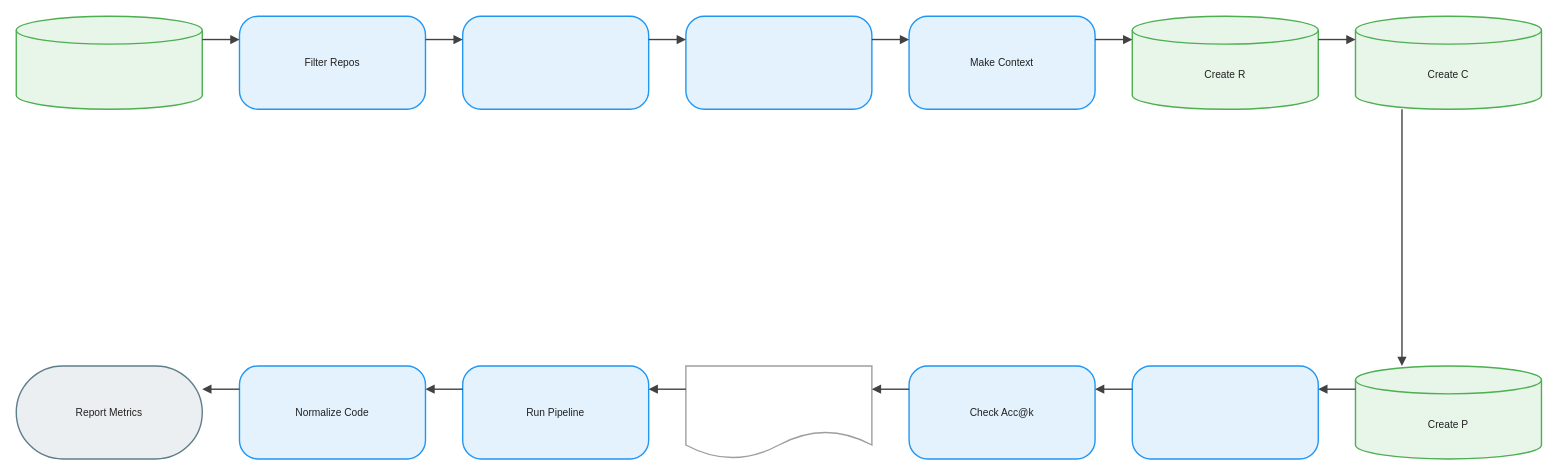
Image size: 1559x476. Some labels were removed from this diagram. Here are the shapes that lost their labels. From the top down, the centre of each, then its label:
At point 109,62: "Crawl Repos".
At point 555,62: "Parse Links".
At point 778,62: "Mask Target".
At point 778,412: "Predict Line".
At point 1225,412: "Rank Snippets".
